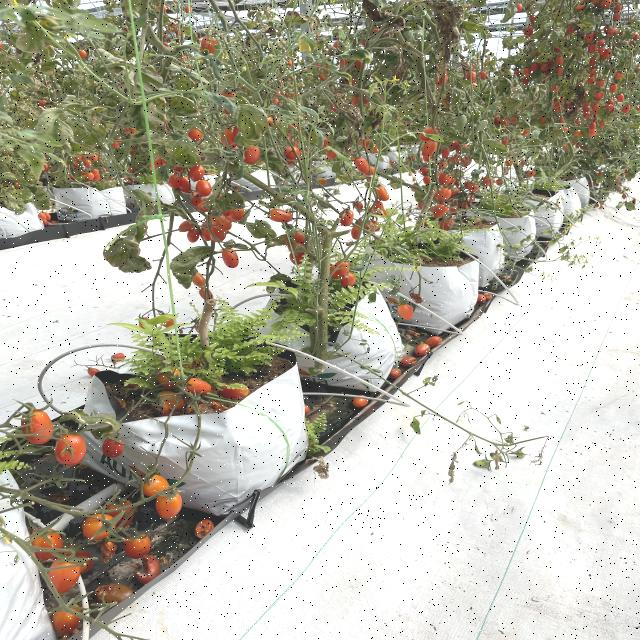Soilbag: (80, 336, 320, 510), (257, 279, 408, 396), (360, 244, 487, 335)
plant: (207, 159, 340, 326)
